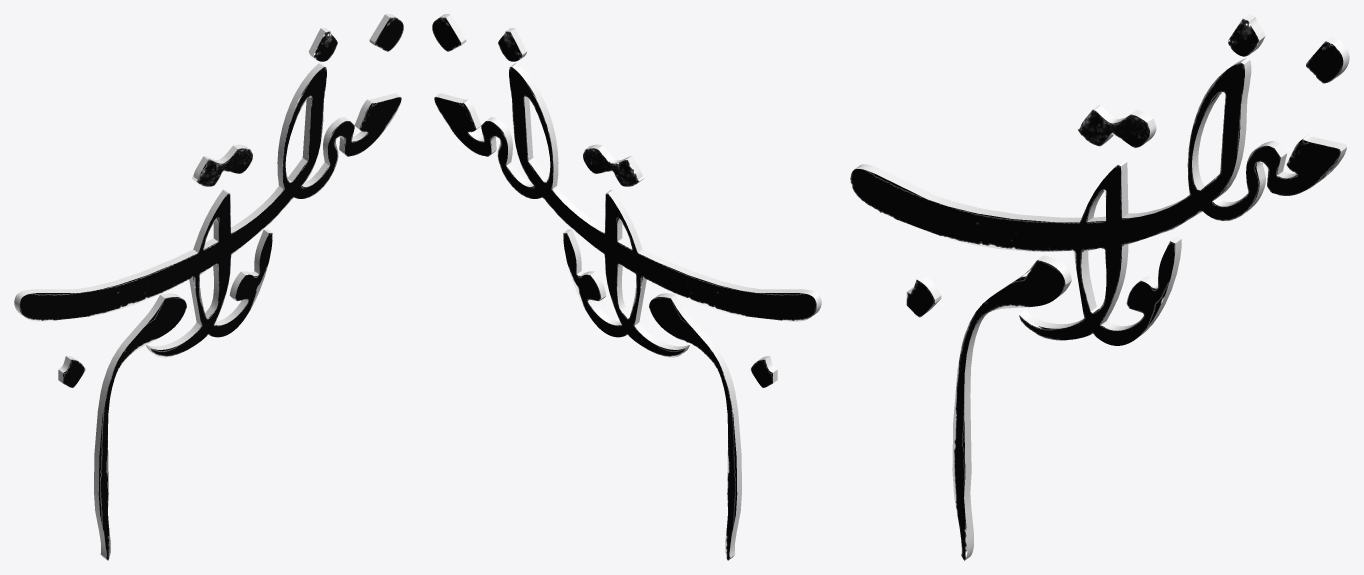
File: nas-1.obj
3 views of the same model, side by side, from view 1: azimuth 30°, elevation 25°; view 2: azimuth 150°, elevation 25°; view 3: azimuth 330°, elevation 25° (orthographic). The views are drawn at different scales.
Size of the model in its own units: 453 by 536 by 10.
3 materials, 3 textured.
